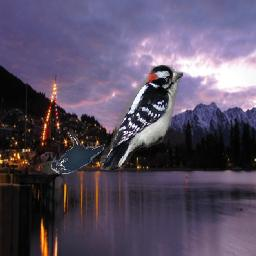Crow: (52, 132, 105, 175)
Woodpecker: (101, 66, 184, 171)
